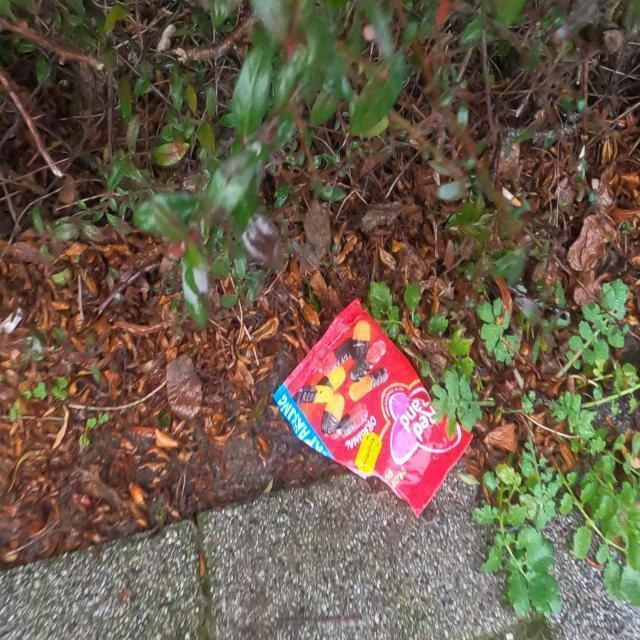Plastic: (272, 294, 478, 507)
